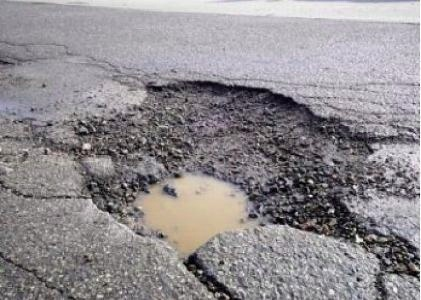pothole: (69, 73, 381, 262)
